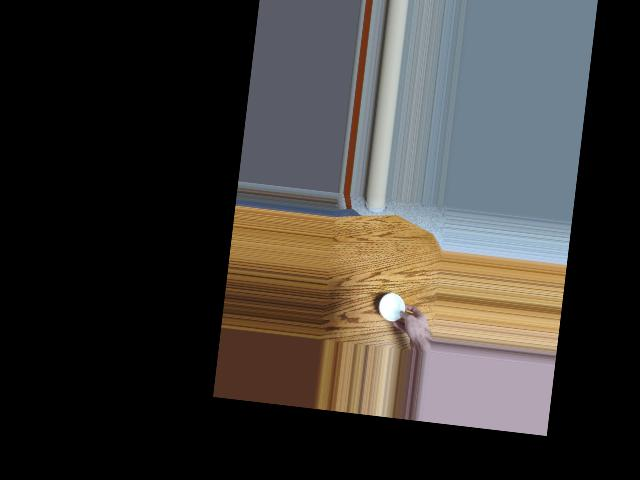cotage: (376, 289, 410, 327)
